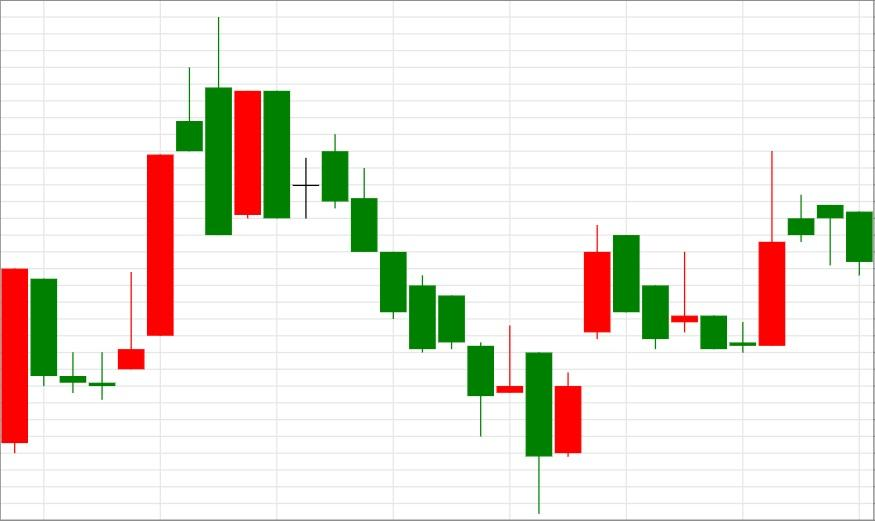morning_star_rise: (613, 150, 787, 354)
three_black_crows_fall: (205, 16, 408, 320)
